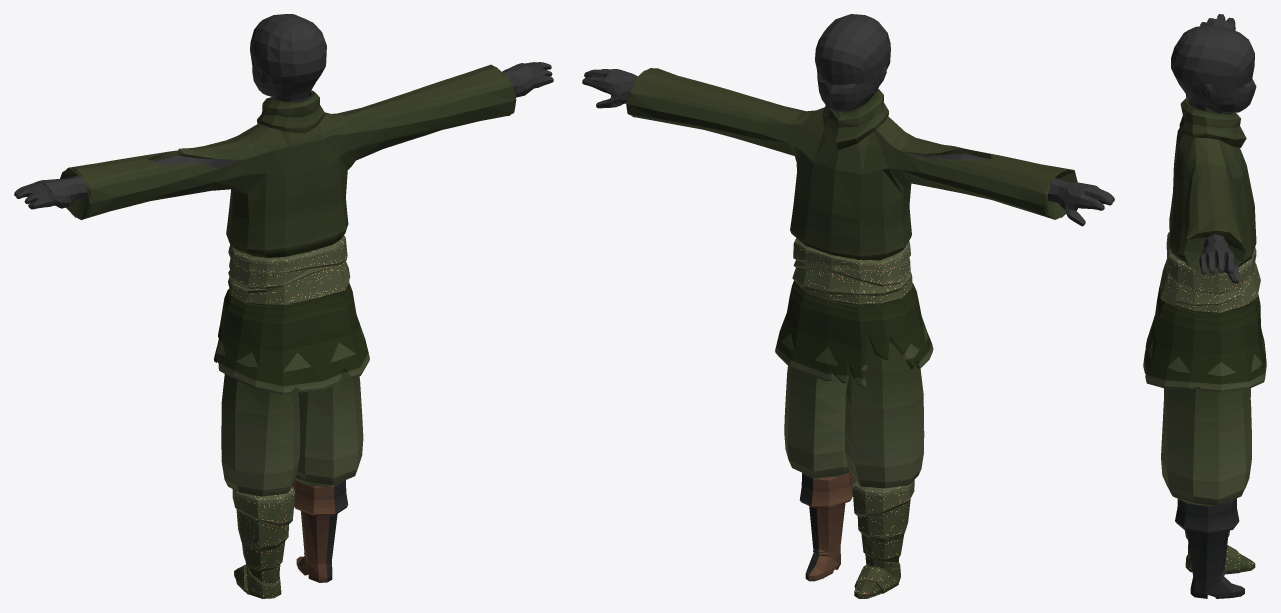
The model's file is CharSkyNPC_Body_AP17Injured.glb.
3 views of the same model, side by side, from view 1: azimuth 30°, elevation 25°; view 2: azimuth 150°, elevation 25°; view 3: azimuth 270°, elevation 25° (orthographic). The views are drawn at different scales.
Parts seen in each view (by area): view 1: CharSkyNPC_Body_AP17Injured; view 2: CharSkyNPC_Body_AP17Injured; view 3: CharSkyNPC_Body_AP17Injured.
Part boxes in pixels (left/top/right/bottom): CharSkyNPC_Body_AP17Injured: left=14, top=14, right=553, bottom=598; CharSkyNPC_Body_AP17Injured: left=582, top=14, right=1114, bottom=598; CharSkyNPC_Body_AP17Injured: left=1143, top=14, right=1266, bottom=598.
Bounding box in the file's own units: 13.87 × 13.99 × 2.84.
1 material, 1 textured.
